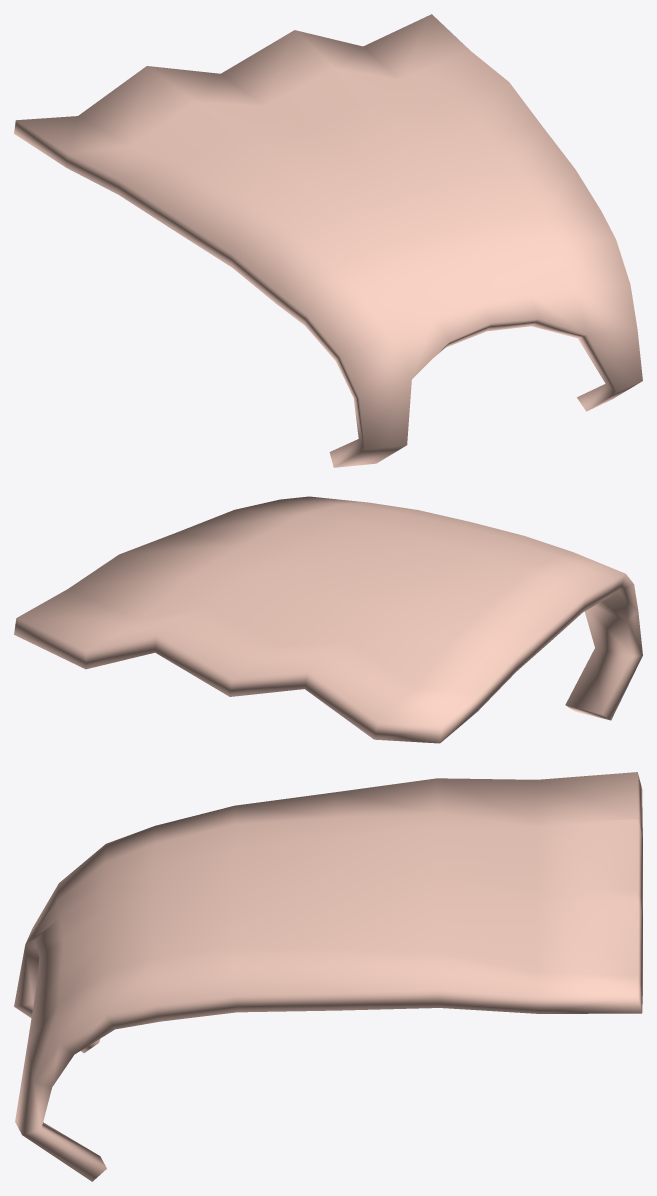
File: Plash.fbx
The picture shows the model from 3 angles, top to bottom: view 1: azimuth 30°, elevation 25°; view 2: azimuth 150°, elevation 25°; view 3: azimuth 270°, elevation 25°; orthographic projection. The views are drawn at different scales.
Visible parts, largest first — view 1: New_Stickman.001; view 2: New_Stickman.001; view 3: New_Stickman.001.
Part boxes in pixels (box(x1,y1,x2,y2)): New_Stickman.001: box(14, 14, 642, 467); New_Stickman.001: box(14, 496, 642, 743); New_Stickman.001: box(14, 772, 642, 1181).
Size of the model in its own units: 0.4147 by 0.2042 by 0.4798.
1 material, 1 textured.
